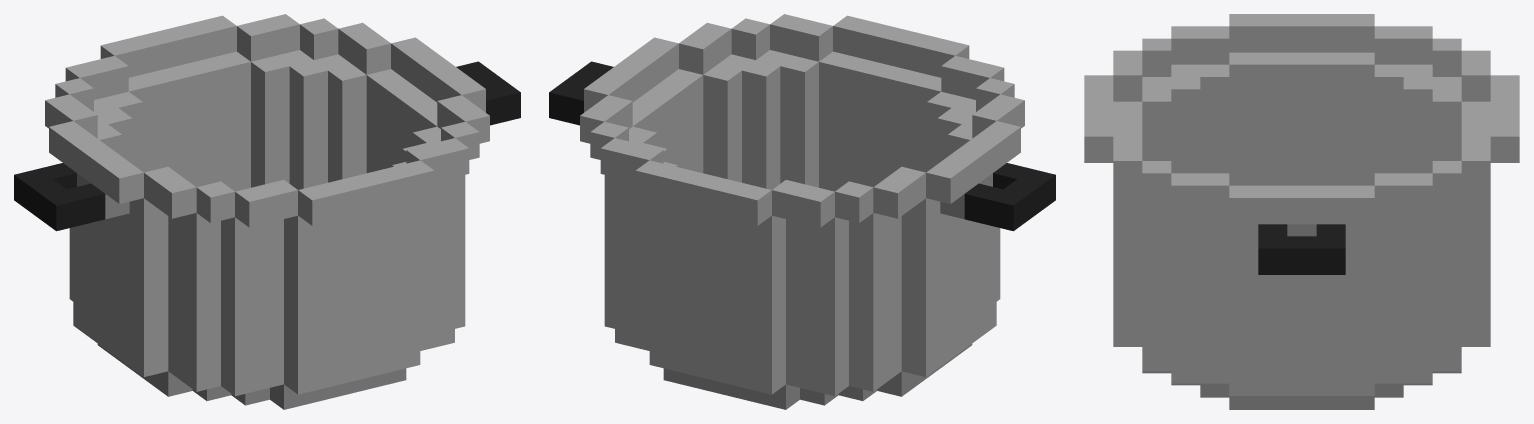
File: Pot.obj
The picture shows the model from 3 angles, left to right: view 1: azimuth 30°, elevation 25°; view 2: azimuth 150°, elevation 25°; view 3: azimuth 270°, elevation 25°; orthographic projection. The views are drawn at different scales.
Bounding box in the file's own units: 1.9 × 0.9 × 1.5.
Materials: 1 (1 with a texture image).
